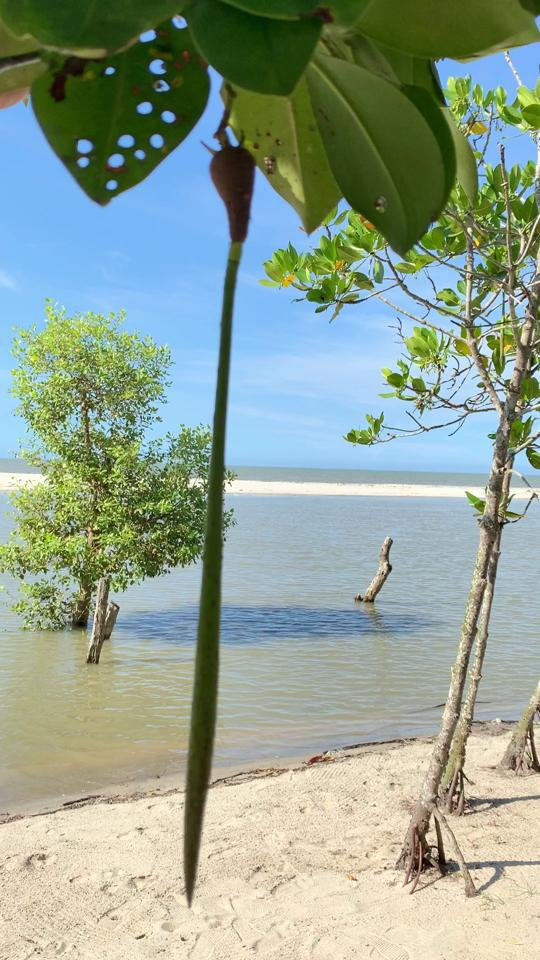setengah matang: (171, 115, 270, 922)
